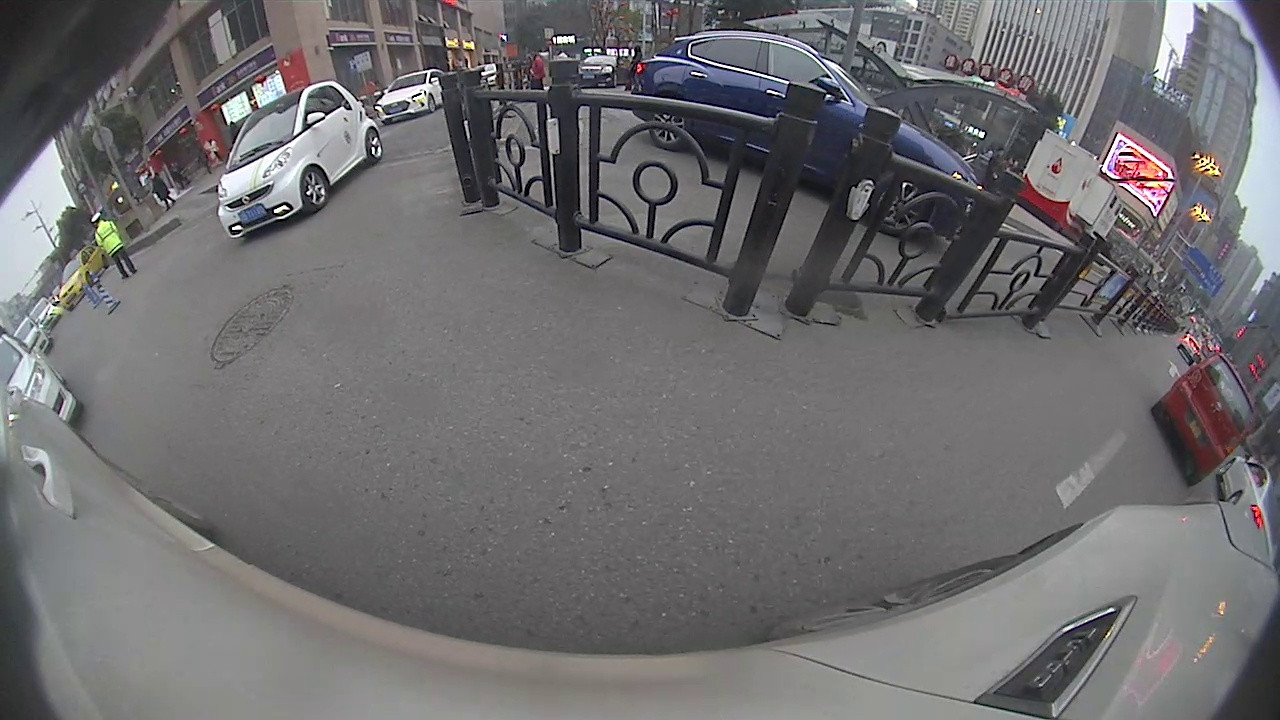car: (628, 29, 981, 237), (214, 81, 384, 240), (1149, 353, 1260, 489), (376, 66, 453, 129)
front: (880, 171, 924, 235), (301, 165, 332, 210), (1218, 461, 1238, 475), (428, 94, 438, 114)
person: (93, 219, 128, 283), (149, 174, 177, 212)
rear: (645, 102, 692, 147), (365, 128, 385, 162), (1225, 492, 1242, 507)
